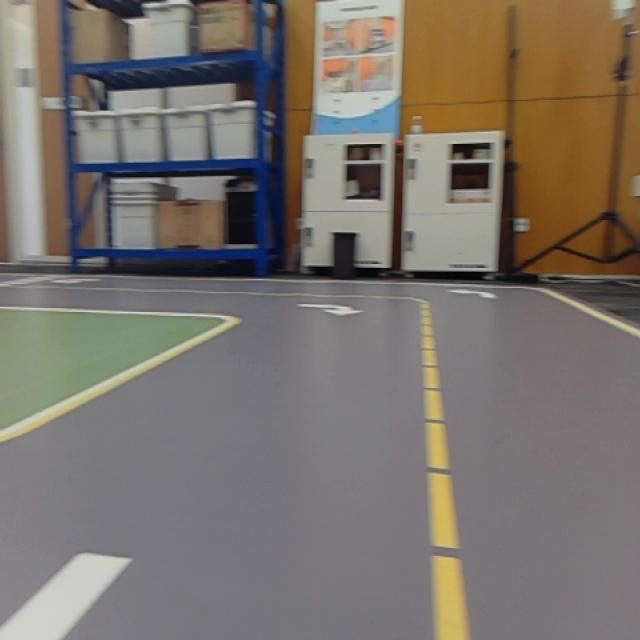left_lane: (420, 302, 471, 638)
right_lane: (1, 320, 239, 445), (541, 286, 639, 339)
